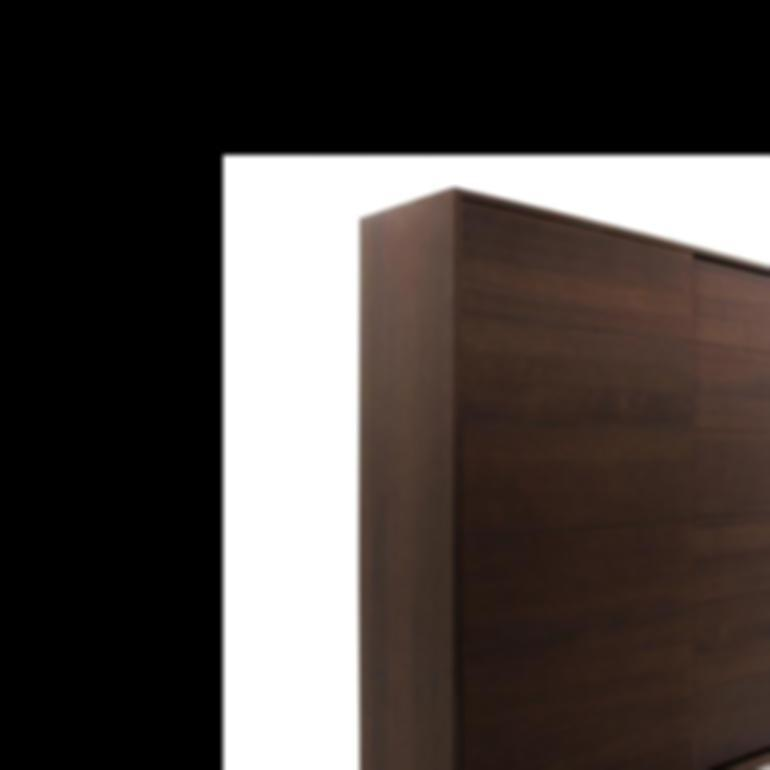Armario: (342, 187, 770, 770)
